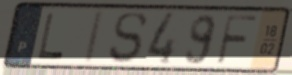4: (145, 10, 178, 67)
9: (183, 12, 218, 66)
F: (214, 13, 260, 68)
I: (80, 8, 107, 67)
L: (36, 11, 66, 61)
S: (107, 10, 150, 66)
